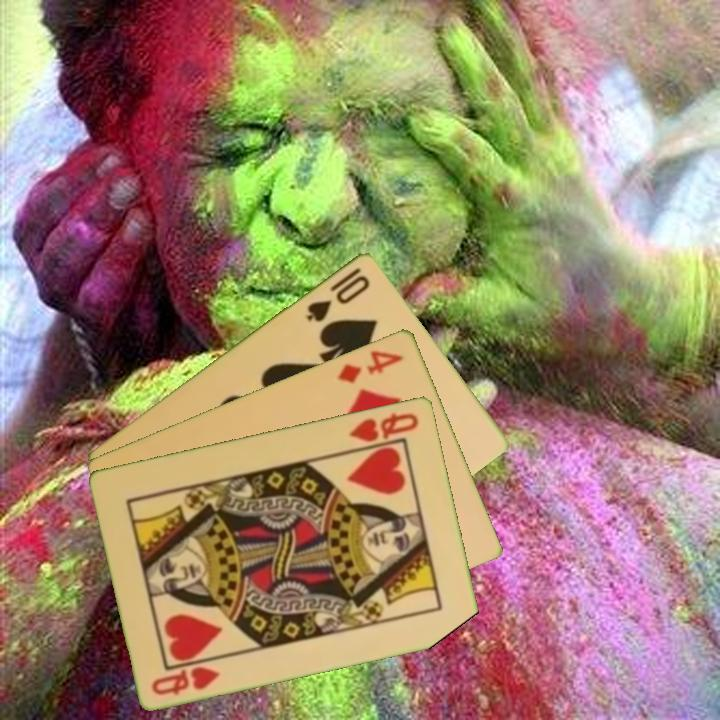10s: (302, 263, 373, 325)
4d: (334, 346, 406, 386)
Qh: (345, 409, 422, 445), (148, 662, 223, 698)
